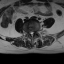CCS_normal: (31, 30, 32, 38)
LFS_severe_stenosis: (34, 29, 36, 34)
LLS_severe_stenosis: (32, 30, 34, 35)
RFS_severe_stenosis: (27, 30, 29, 35)
RLS_stenosis: (29, 30, 31, 36)
